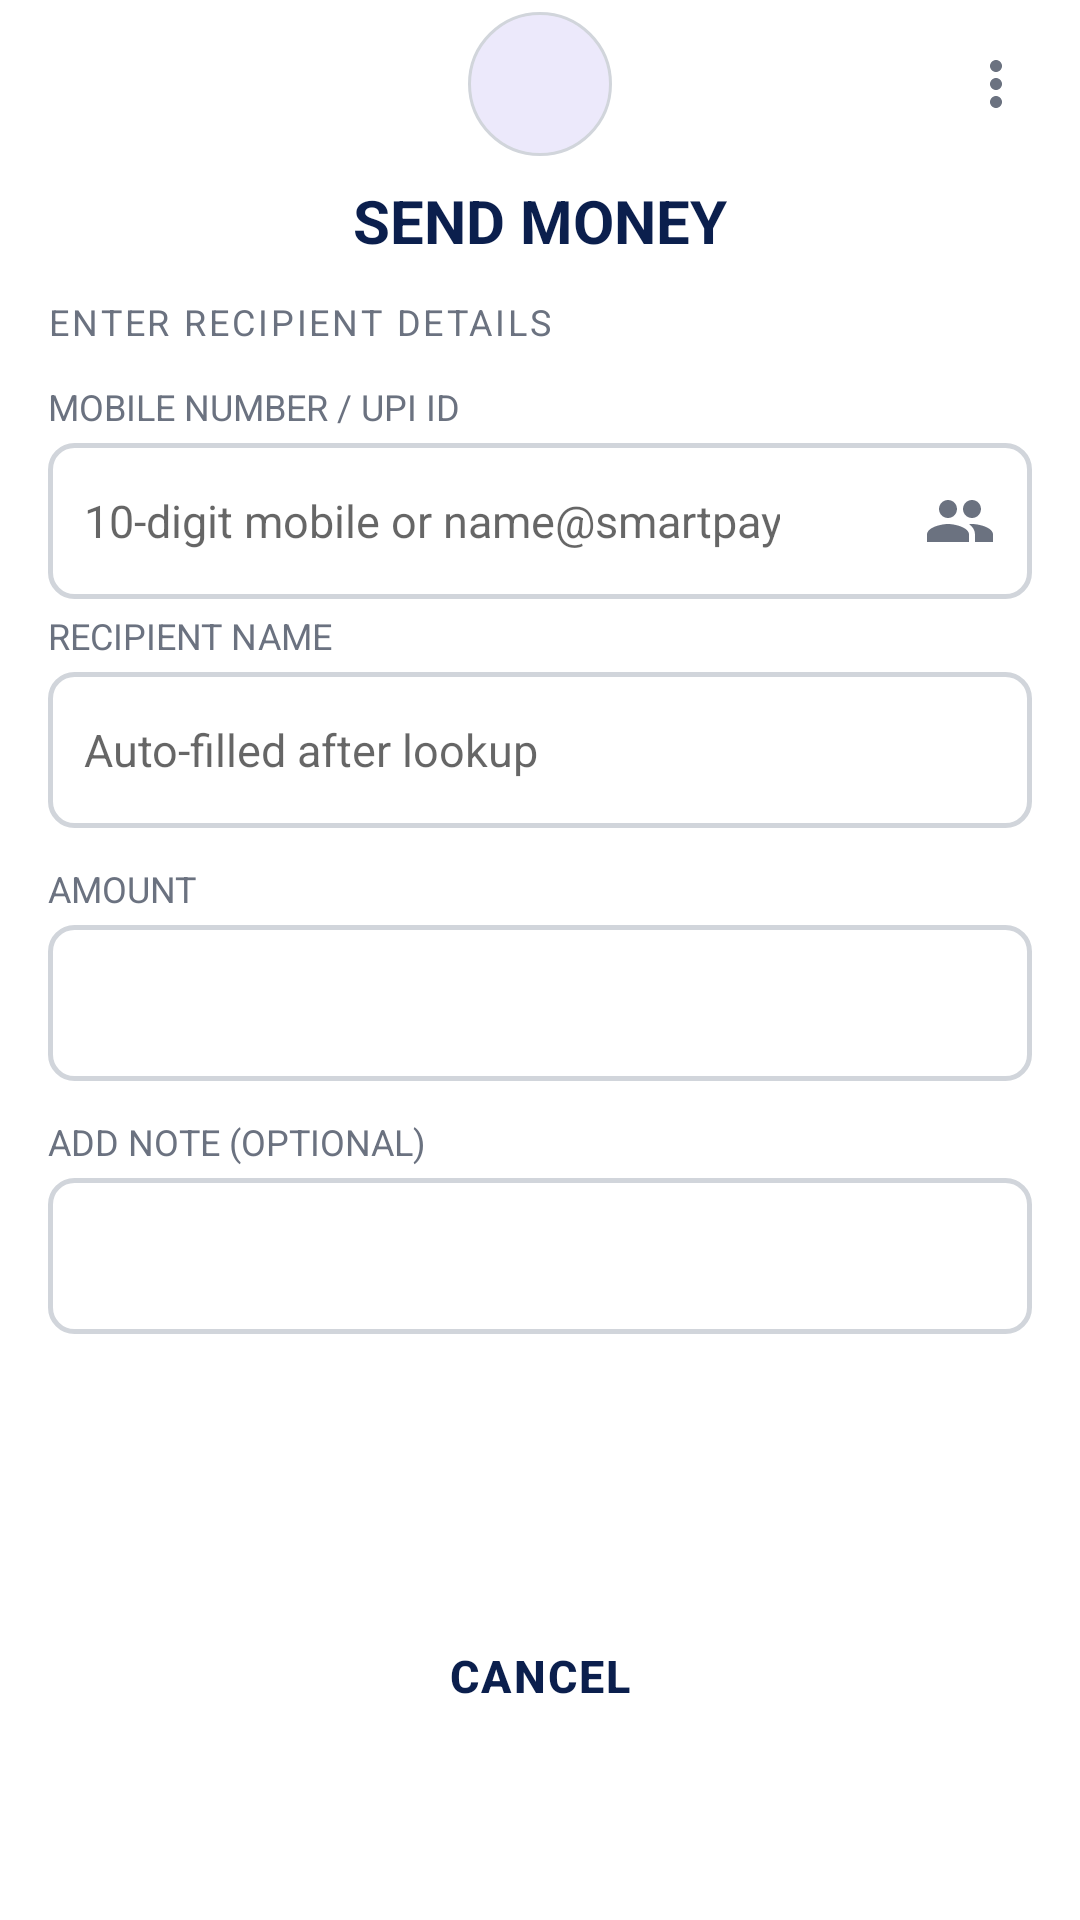

Icons on this 1080 x 1920 Android screen, each with the point to tap as (x,y):
More options: (996,84)
Select contact: (960,521)
